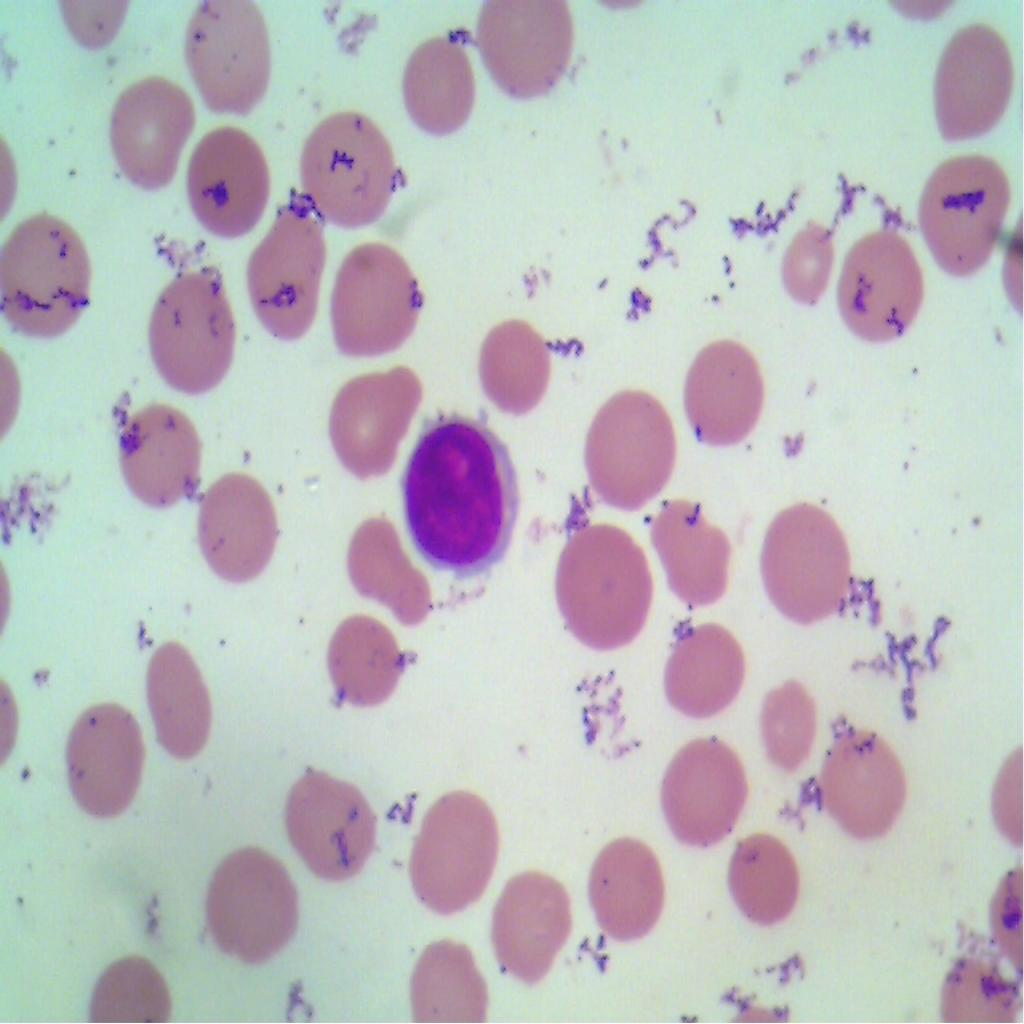Eritrosit: (319, 237, 436, 364), (196, 834, 298, 978), (544, 515, 650, 651), (923, 154, 1023, 298), (401, 790, 509, 918), (55, 680, 142, 838), (0, 212, 102, 344), (238, 202, 330, 346), (179, 112, 279, 244), (294, 98, 396, 227), (575, 382, 678, 509), (756, 497, 858, 625), (278, 764, 380, 890), (806, 710, 900, 844), (918, 18, 1016, 141), (150, 263, 236, 398), (391, 925, 506, 1023), (486, 867, 578, 989), (192, 464, 278, 594), (324, 365, 423, 477), (471, 0, 584, 98), (578, 826, 671, 944), (660, 732, 746, 855), (178, 0, 272, 111), (339, 518, 433, 628), (838, 231, 923, 352), (109, 71, 195, 188), (650, 500, 738, 610), (316, 614, 408, 718), (114, 394, 199, 506), (686, 345, 772, 450), (474, 308, 551, 422), (143, 639, 213, 764), (656, 615, 738, 718), (403, 32, 483, 132), (731, 834, 806, 927), (776, 216, 838, 298), (759, 682, 815, 764)
Limfoblast: (398, 408, 531, 584)
